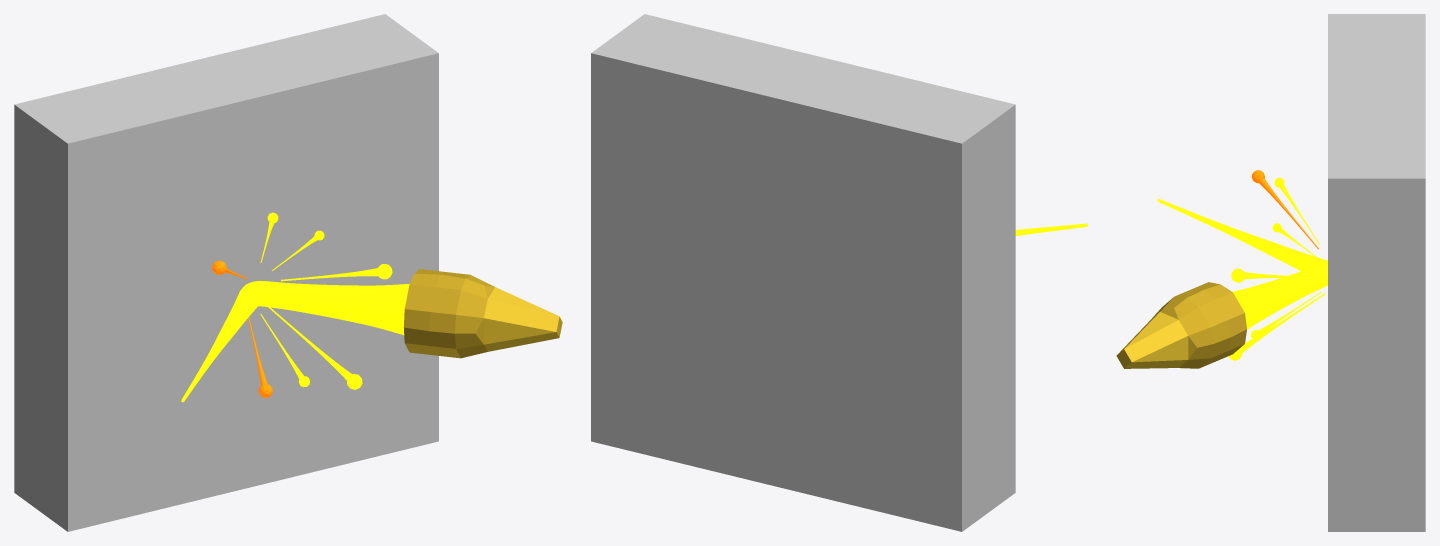
File: BounceBoost.fbx
The picture shows the model from 3 angles, left to right: view 1: azimuth 30°, elevation 25°; view 2: azimuth 150°, elevation 25°; view 3: azimuth 270°, elevation 25°; orthographic projection. The views are drawn at different scales.
Parts seen in each view (by area): view 1: BounceBoost; view 2: BounceBoost; view 3: BounceBoost.
Boxes of the visible parts, x1,y1,x2,y2 form: BounceBoost: (14,14,562,531); BounceBoost: (591,14,1087,531); BounceBoost: (1116,14,1425,531).
Bounding box in the file's own units: 104 × 100 × 79.33.
